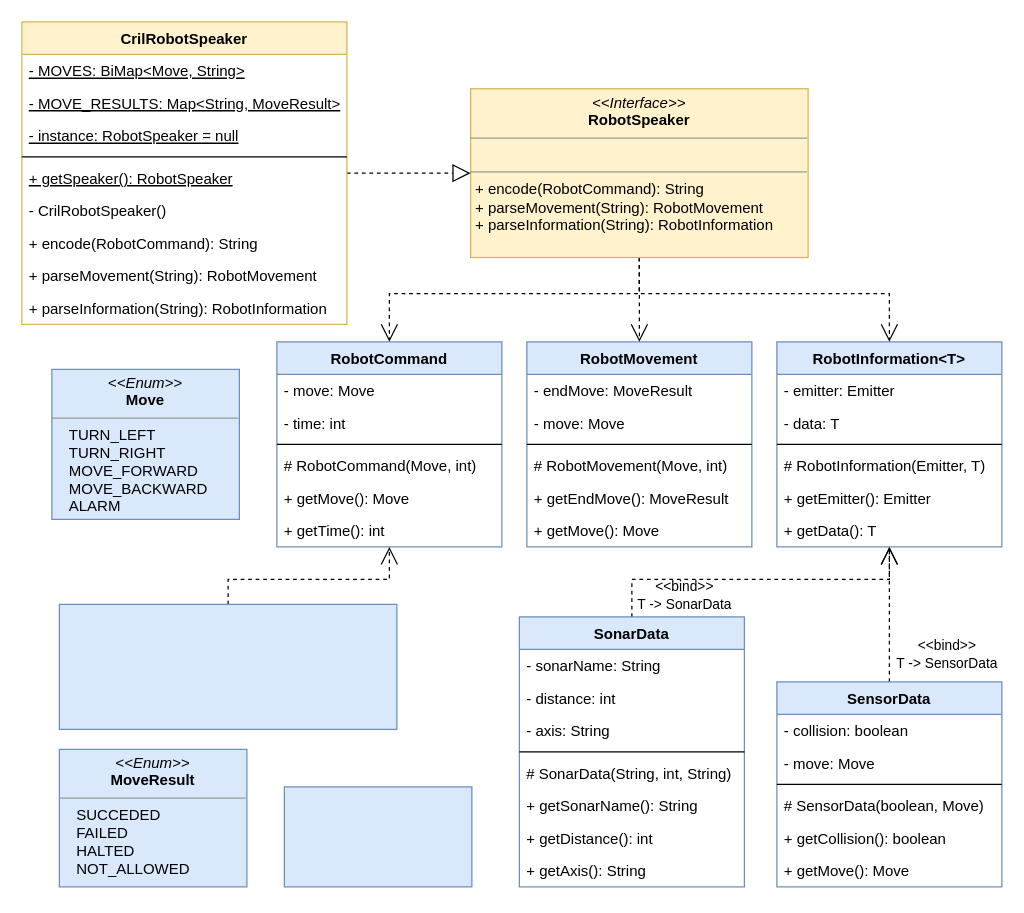
This 1024x913 diagram has some shape labels left out. The shapes that lost their labels are listed below. From the top down, each one's centre as x and y in pixels, then its label:
At pixel 227 666: "<<Interface>> CommandFactory + createCommand(Move, int): RobotCommand".
At pixel 377 836: "<<Enum>> Emitter SONAR SENSOR".
